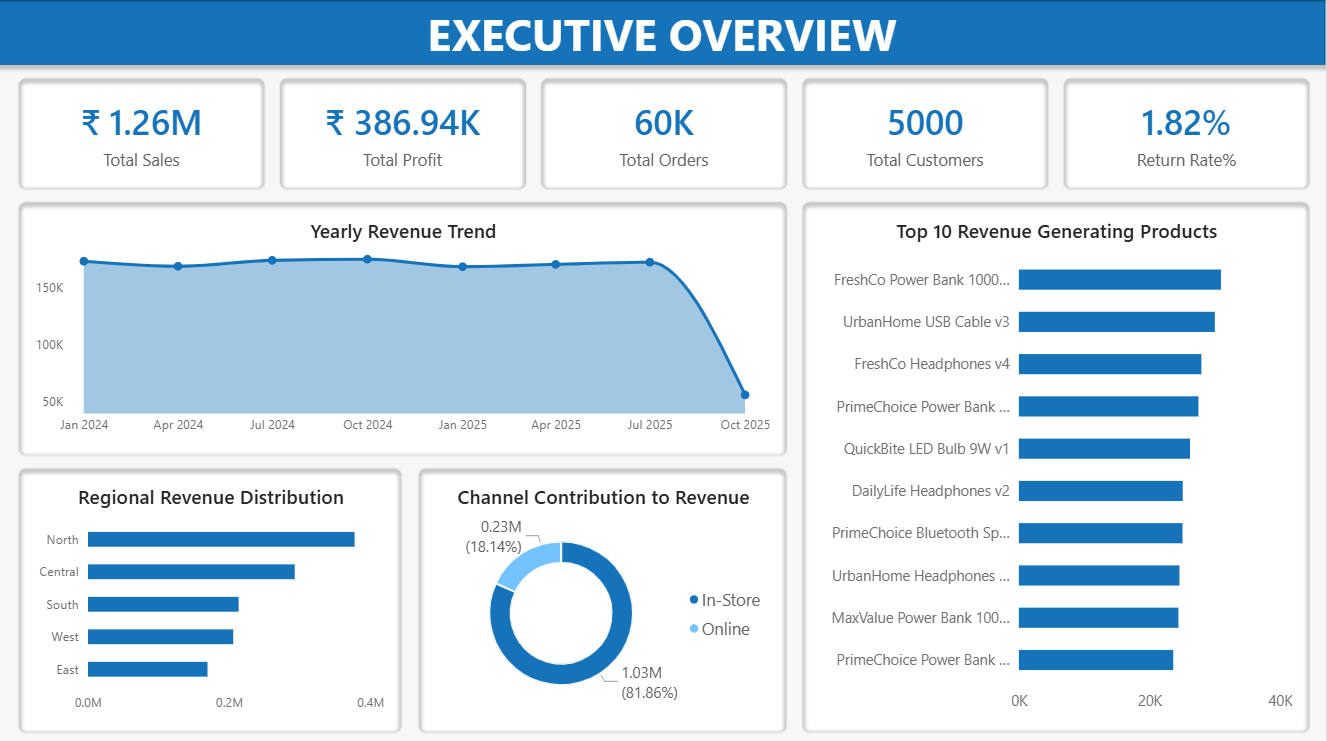

The page's visual inventory and layout, read from the dashboard file:
{"tool":"powerbi","page":{"name":"Executive Overview","canvas":[1280,720],"ordinal":0},"visuals":[{"type":"shape","box":[0,0,1280,62.7],"z":0},{"type":"card","fields":{"Values":["Measure.Total Sales"]},"box":[18.1,74.8,238.9,108.6],"z":1000},{"type":"card","fields":{"Values":["Measure.Total Profit"]},"box":[270.2,74.8,238.9,108.6],"z":2000},{"type":"card","fields":{"Values":["Measure.Total Orders"]},"box":[522.4,74.8,238.9,108.6],"z":3000},{"type":"card","fields":{"Values":["Measure.Total Customers"]},"box":[774.5,74.8,238.9,108.6],"z":4000},{"type":"card","fields":{"Values":["Measure.Return Rate%"]},"box":[1026.7,74.8,238.9,108.6],"z":5000},{"type":"lineChart","title":"Yearly Revenue Trend","fields":{"Category":["Dim_Calendar.Year Hierarchy.Year","Dim_Calendar.Year Hierarchy.StartofQuarter","Dim_Calendar.Year Hierarchy.StartofMonth"],"Y":["Measure.Total Sales"]},"box":[18.1,194.2,743.2,246.1],"z":6000},{"type":"barChart","title":"Top 10 Revenue Generating Products","fields":{"Category":["Dim_Products.ProductName"],"Y":["Measure.Total Sales"]},"box":[774.5,194.2,491,513.9],"z":7000},{"type":"barChart","title":"Regional Revenue Distribution","fields":{"Category":["Dim_Stores.Region"],"Y":["Measure.Total Sales"]},"box":[18.1,451.2,371.6,257],"z":8000},{"type":"donutChart","title":"Channel Contribution to Revenue","fields":{"Series":["Fact_Sales.Channel"],"Y":["Measure.Total Sales"]},"box":[404.2,451.2,357.1,257],"z":9000}]}

Visuals, with their boxes in screenshot pixels (x1, y1, x2, y2), scaled from the page's 1280x720 canvas onto the 1327x741 screenshot:
shape: BBox(0, 0, 1326, 65)
card - Measure.Total Sales: BBox(19, 77, 266, 189)
card - Measure.Total Profit: BBox(280, 77, 528, 189)
card - Measure.Total Orders: BBox(542, 77, 789, 189)
card - Measure.Total Customers: BBox(803, 77, 1051, 189)
card - Measure.Return Rate%: BBox(1064, 77, 1312, 189)
"Yearly Revenue Trend" lineChart: BBox(19, 200, 789, 453)
"Top 10 Revenue Generating Products" barChart: BBox(803, 200, 1312, 729)
"Regional Revenue Distribution" barChart: BBox(19, 464, 404, 729)
"Channel Contribution to Revenue" donutChart: BBox(419, 464, 789, 729)
